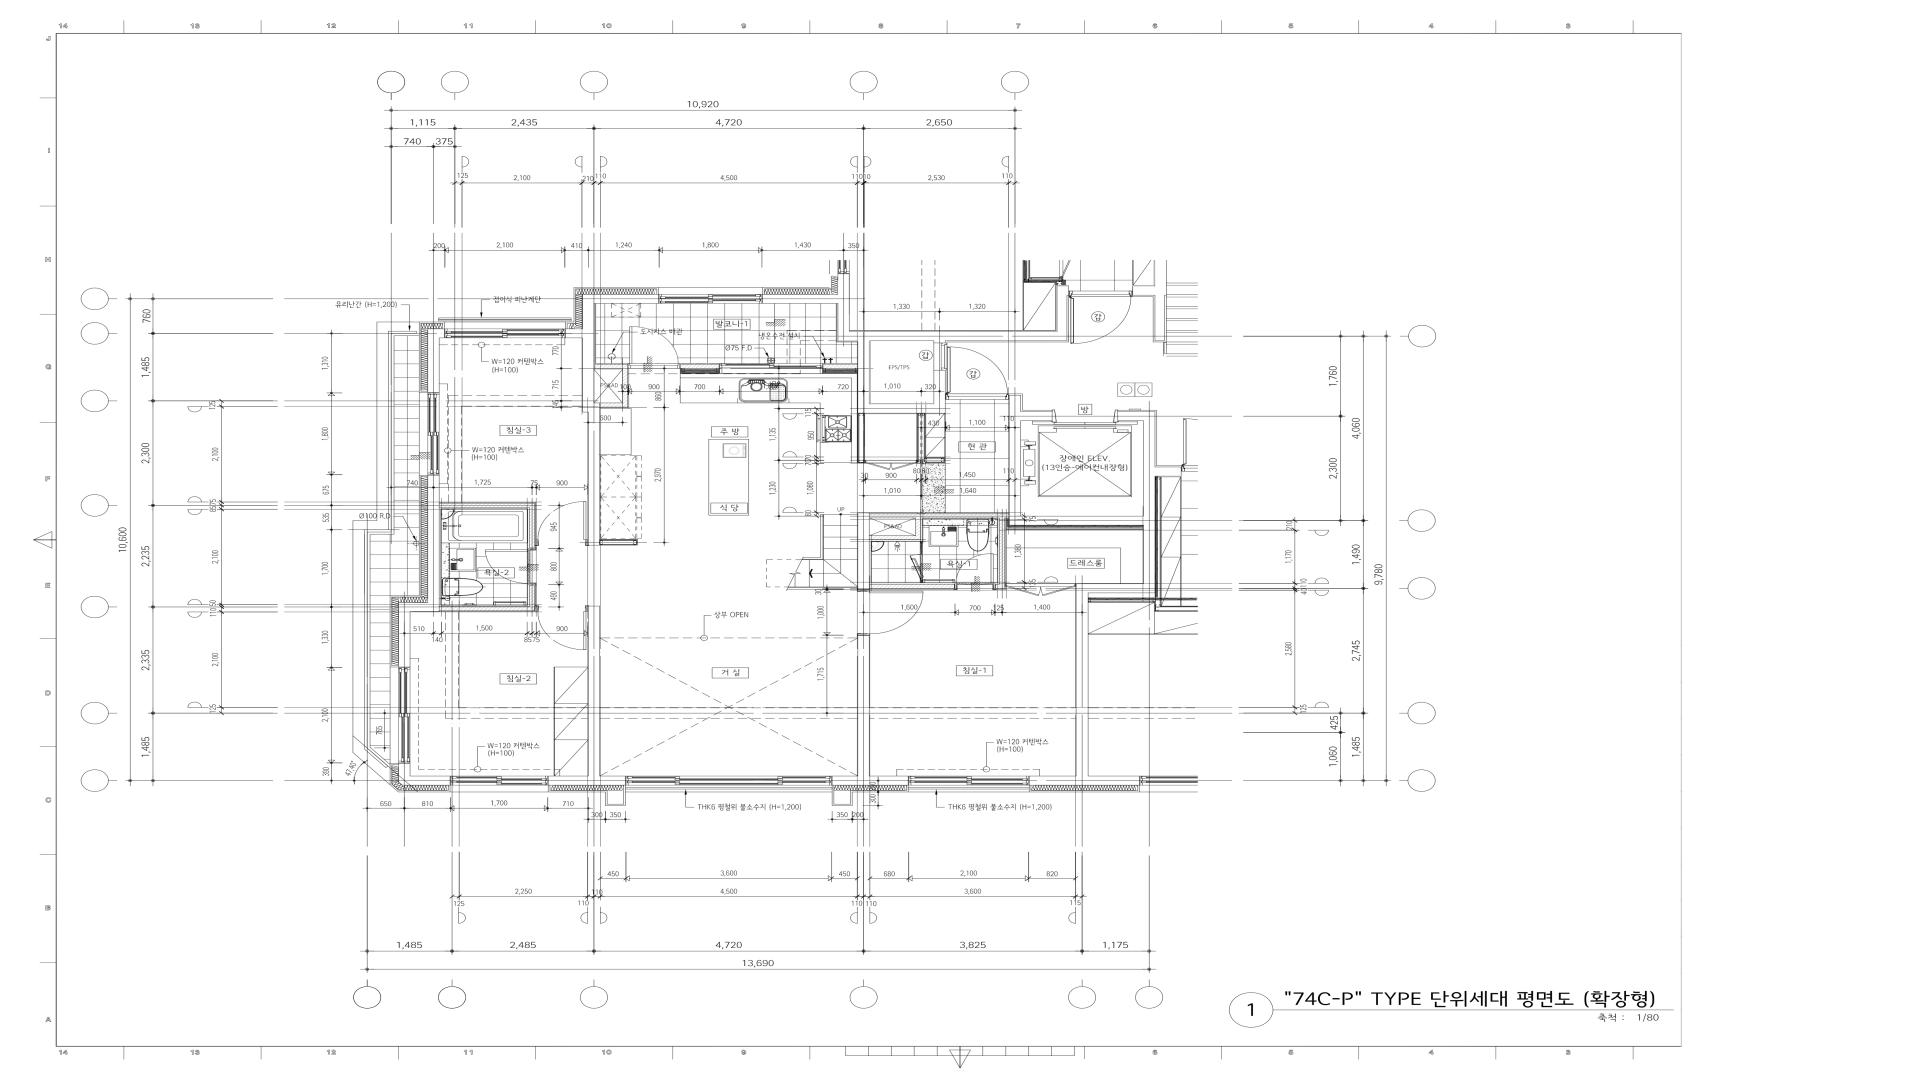door: (945, 347, 1009, 400), (857, 589, 924, 636), (535, 501, 588, 546), (537, 605, 588, 650), (628, 326, 680, 369), (485, 550, 537, 584), (955, 553, 996, 589), (1005, 583, 1076, 596), (916, 413, 926, 514), (864, 456, 916, 471), (934, 343, 945, 371)
wall: (352, 530, 368, 745), (1142, 421, 1156, 583), (377, 322, 389, 520), (1076, 583, 1088, 775), (849, 331, 1056, 342), (588, 607, 600, 775), (352, 736, 390, 785), (857, 636, 870, 775), (588, 404, 600, 546), (427, 475, 439, 603), (582, 303, 595, 411), (1009, 396, 1021, 516), (1009, 516, 1142, 525), (857, 513, 870, 589), (398, 603, 411, 667), (547, 775, 625, 786), (832, 775, 909, 786), (857, 340, 869, 404), (870, 513, 1010, 518), (1056, 286, 1069, 342), (582, 294, 659, 303), (1088, 583, 1155, 593), (857, 404, 934, 413), (762, 294, 837, 303), (427, 338, 439, 393), (1153, 297, 1167, 342), (996, 518, 1005, 588), (1029, 775, 1088, 786), (837, 294, 849, 340), (934, 371, 945, 413), (439, 502, 534, 508), (410, 775, 450, 786), (352, 520, 389, 530), (439, 607, 535, 611), (680, 364, 720, 373), (1133, 286, 1167, 297), (823, 364, 857, 375), (1118, 411, 1156, 421), (870, 584, 955, 588), (857, 413, 864, 463), (1021, 411, 1052, 421), (389, 322, 419, 331), (529, 508, 535, 549), (411, 603, 439, 612), (398, 764, 410, 785), (870, 535, 915, 541), (787, 587, 857, 589), (595, 364, 628, 369), (622, 369, 628, 402), (427, 328, 444, 338), (564, 328, 582, 338), (600, 402, 628, 407), (915, 518, 920, 541), (820, 514, 823, 559), (529, 585, 534, 607), (600, 543, 634, 546), (926, 458, 944, 462), (920, 541, 923, 554), (802, 558, 820, 559), (934, 342, 945, 343), (527, 549, 535, 550), (527, 584, 535, 585)
window: (625, 775, 832, 786), (909, 775, 1029, 786), (398, 667, 410, 764), (444, 328, 566, 338), (450, 775, 549, 786), (427, 393, 439, 475), (720, 364, 823, 373), (659, 294, 762, 303)
